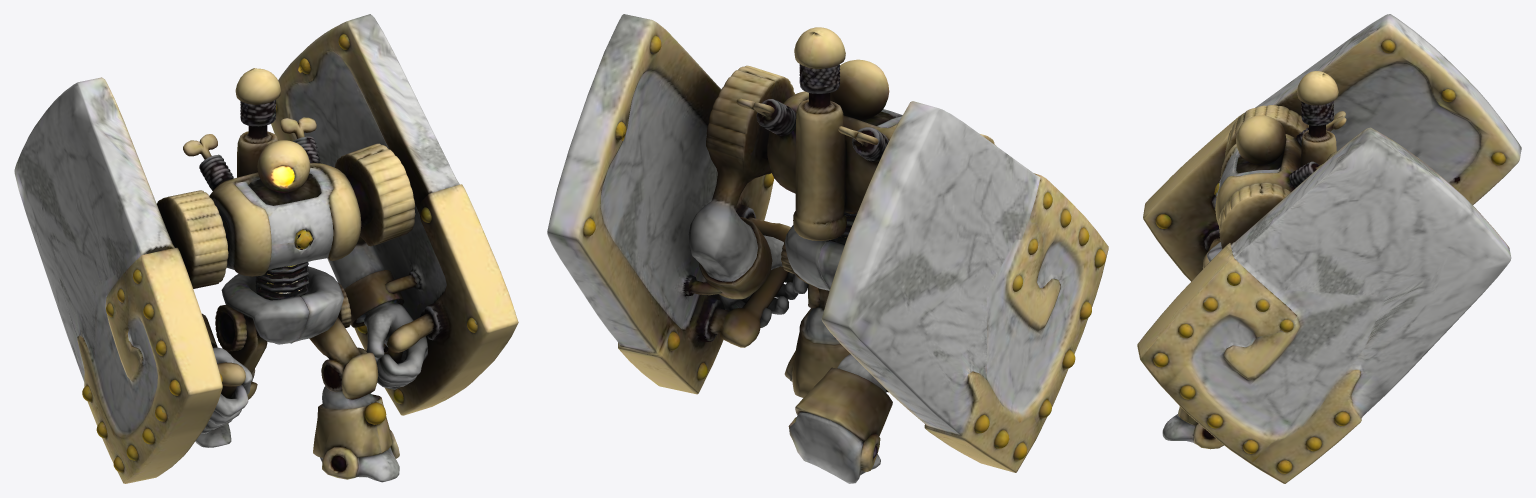
The model's file is MZ4250 - Stone Defender_Marble.glb.
The picture shows the model from 3 angles, left to right: view 1: azimuth 30°, elevation 25°; view 2: azimuth 150°, elevation 25°; view 3: azimuth 270°, elevation 25°; orthographic projection. The views are drawn at different scales.
Visible parts, largest first — view 1: Stone Defender.001; view 2: Stone Defender.001; view 3: Stone Defender.001.
Part boxes in pixels (<box>): Stone Defender.001: <box>14,14,518,483</box>; Stone Defender.001: <box>547,14,1108,483</box>; Stone Defender.001: <box>1137,14,1521,483</box>.
Size of the model in its own units: 0.6484 by 0.6623 by 0.6706.
1 material, 1 textured.
